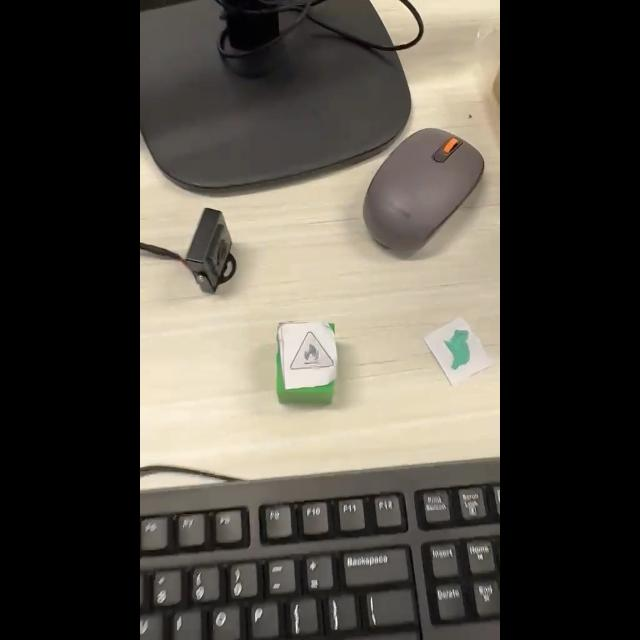Fire: (291, 331, 334, 370)
